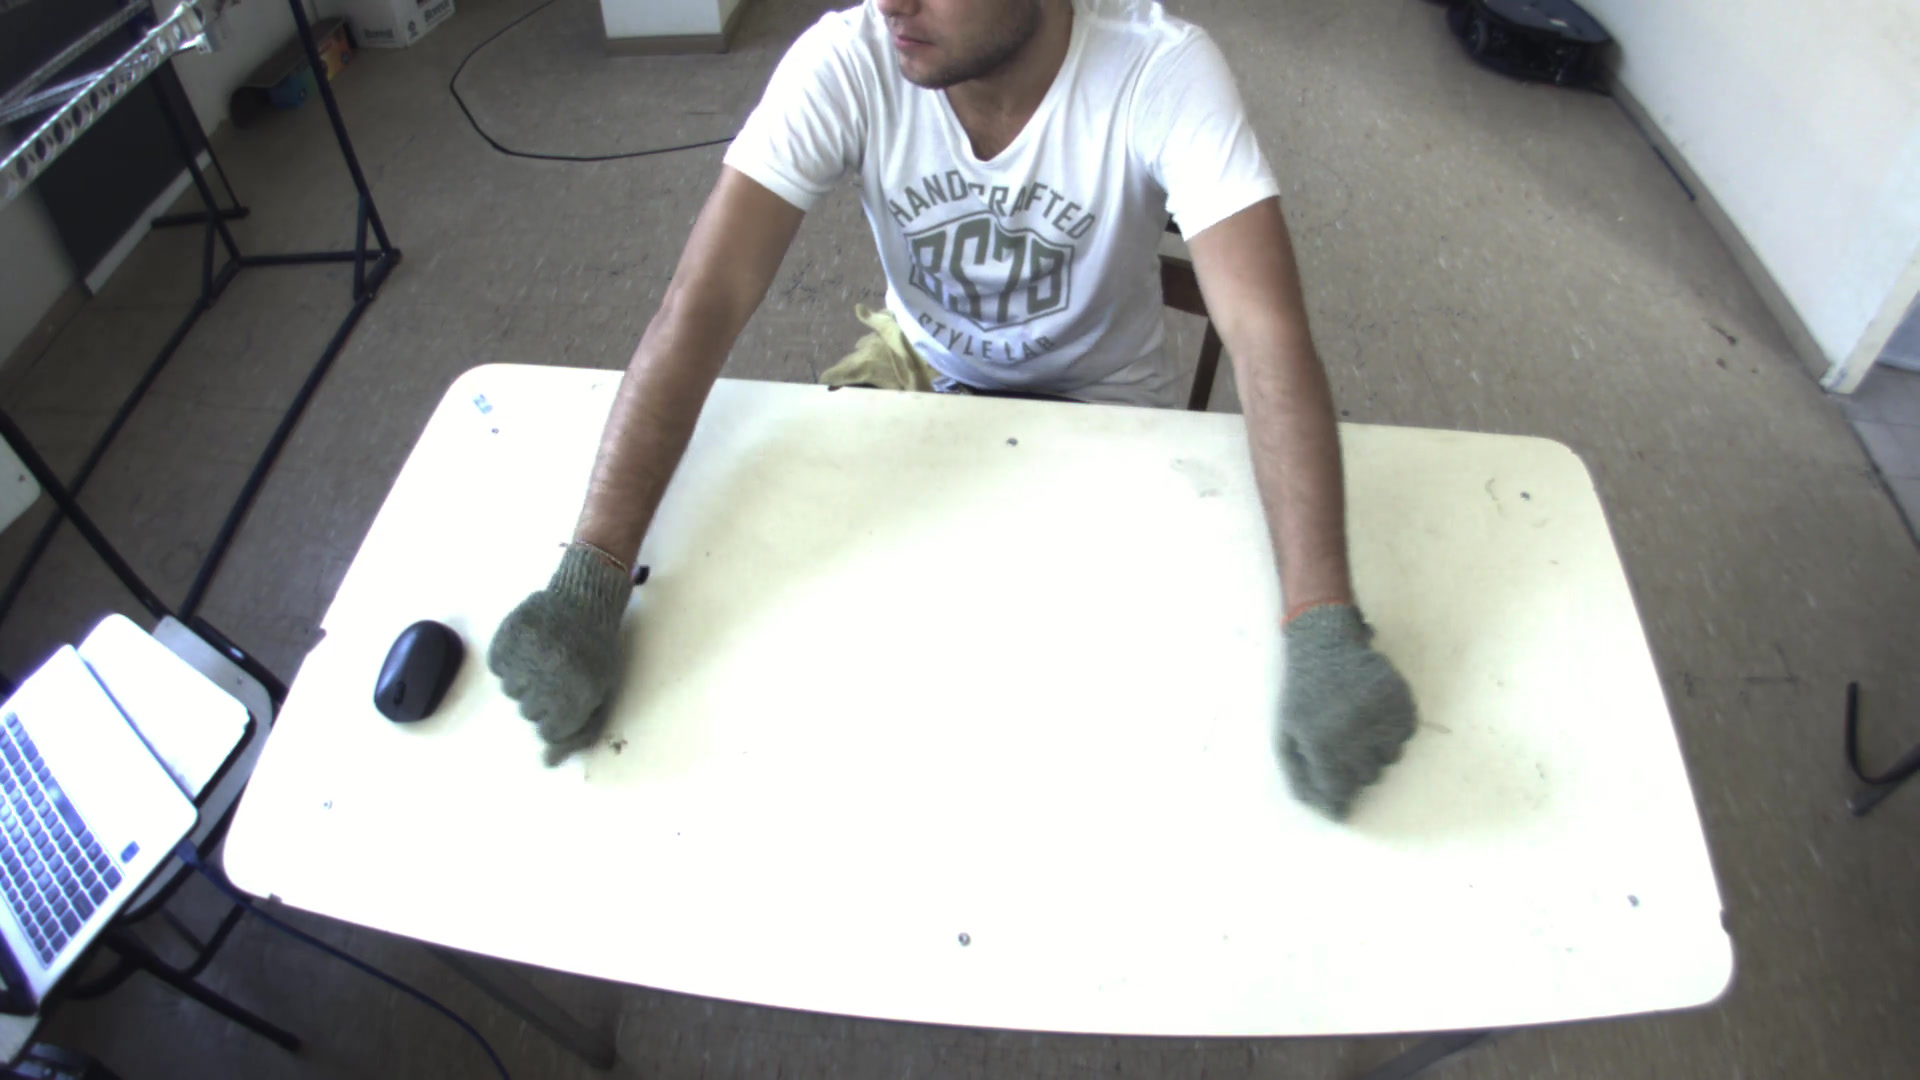hand: (477, 535, 649, 767), (1262, 605, 1429, 818)
